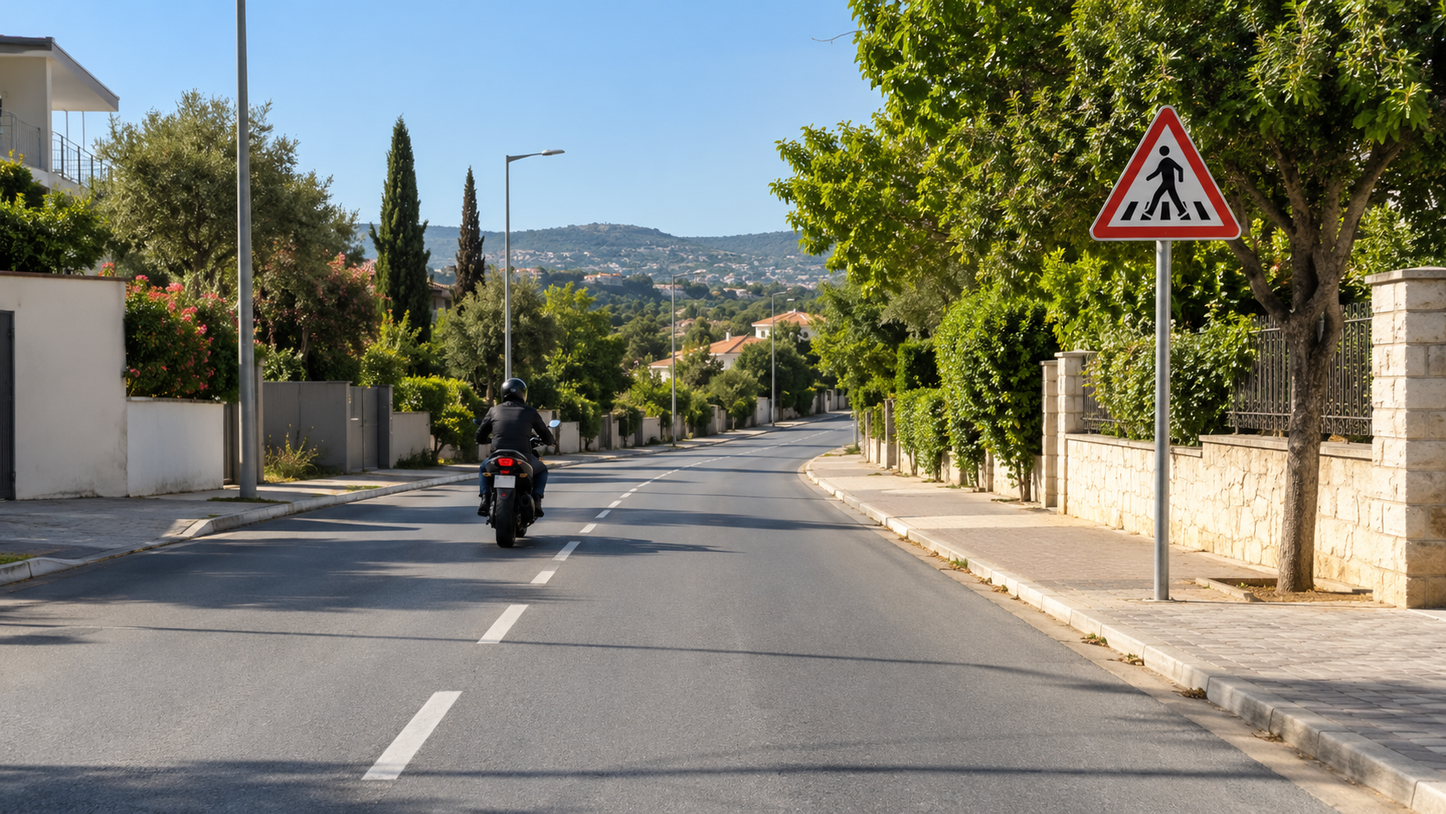crossing_warning_sign: (1090, 106, 1240, 240)
motorcycle: (473, 376, 547, 542)
person: (473, 377, 559, 514)
